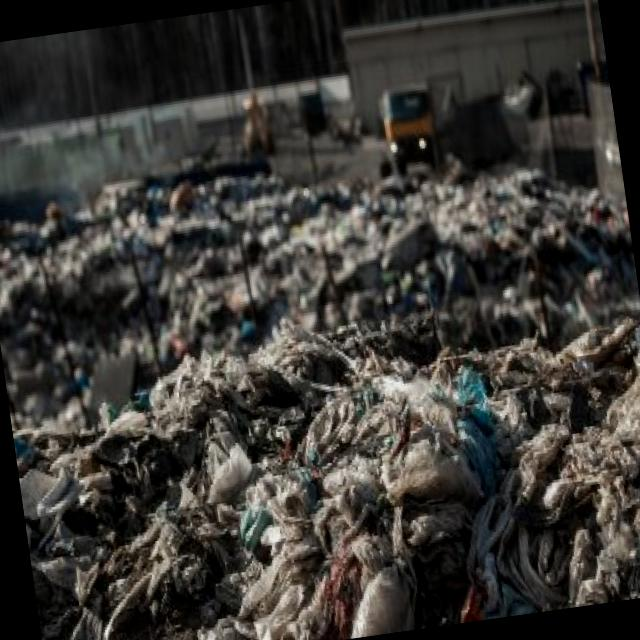garbage: (5, 181, 640, 640)
